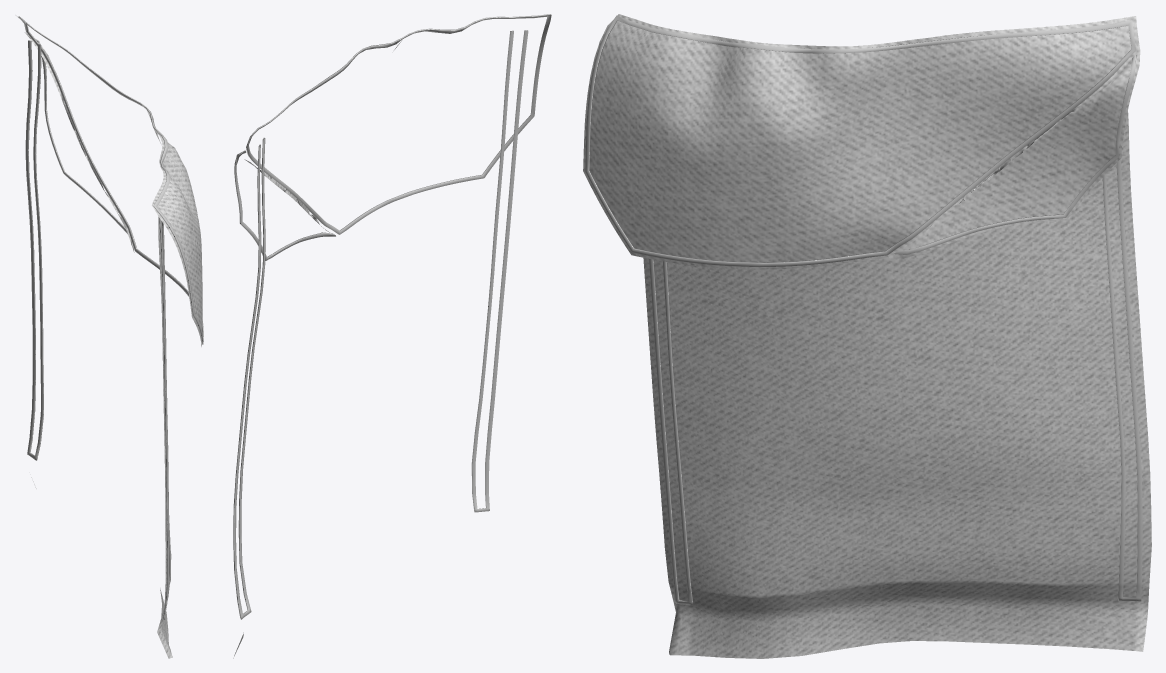
File: Pocket_Right_V2.glb
The picture shows the model from 3 angles, left to right: view 1: azimuth 30°, elevation 25°; view 2: azimuth 150°, elevation 25°; view 3: azimuth 270°, elevation 25°; orthographic projection. The views are drawn at different scales.
Parts seen in each view (by area): view 1: Rope1, Pocket_Right_V21; view 2: Rope1; view 3: Pocket_Right_V21, Rope1.
Boxes of the visible parts, x1=… form: Rope1: x1=18, y1=16, x2=203, y2=619; Pocket_Right_V21: x1=15, y1=15, x2=202, y2=658; Rope1: x1=233, y1=14, x2=551, y2=619; Pocket_Right_V21: x1=583, y1=14, x2=1151, y2=658; Rope1: x1=585, y1=15, x2=1142, y2=605.
Size of the model in its own units: 0.0557 by 0.2781 by 0.2193.
2 materials, 2 textured.
